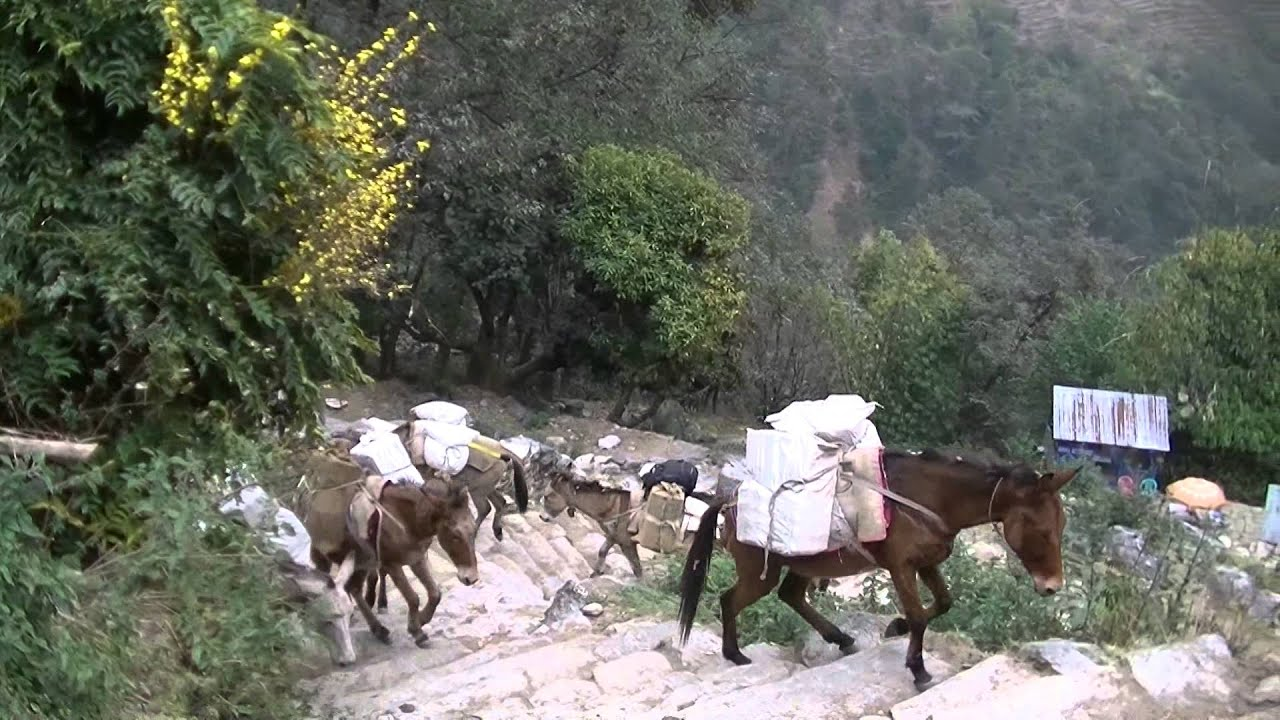equine: (679, 416, 1094, 696), (312, 467, 490, 651), (531, 459, 715, 589)
